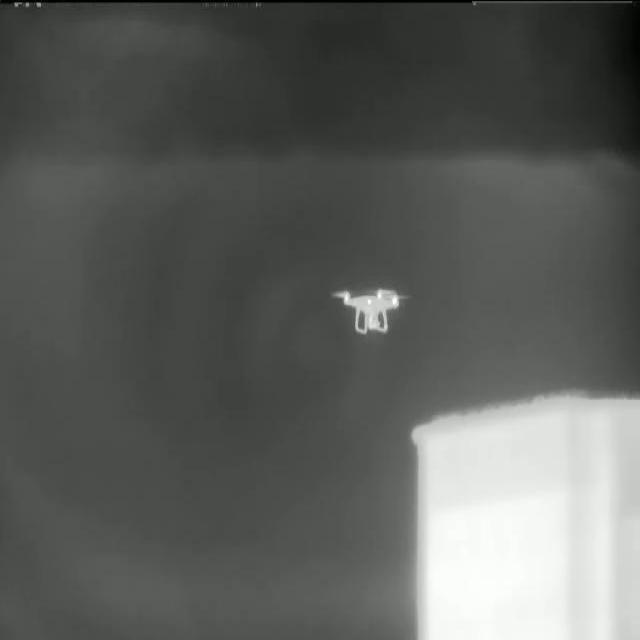DRONE: (322, 285, 414, 335)
